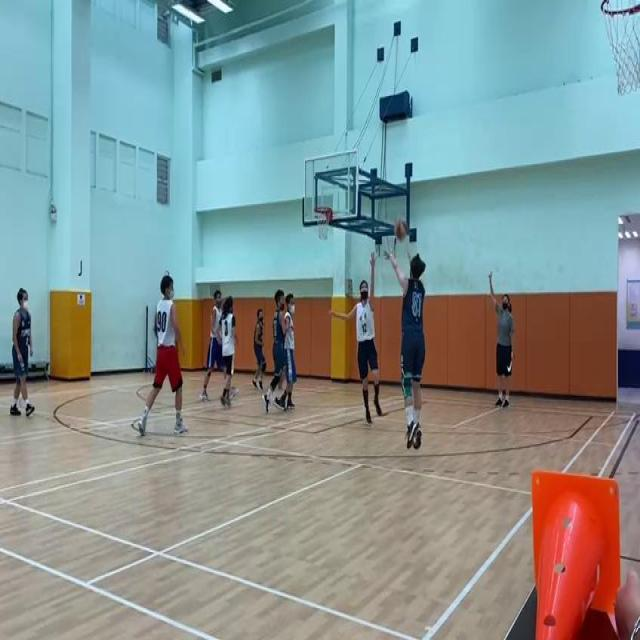basketball: (394, 216, 408, 243)
hoop: (601, 0, 640, 99), (314, 206, 332, 246)
